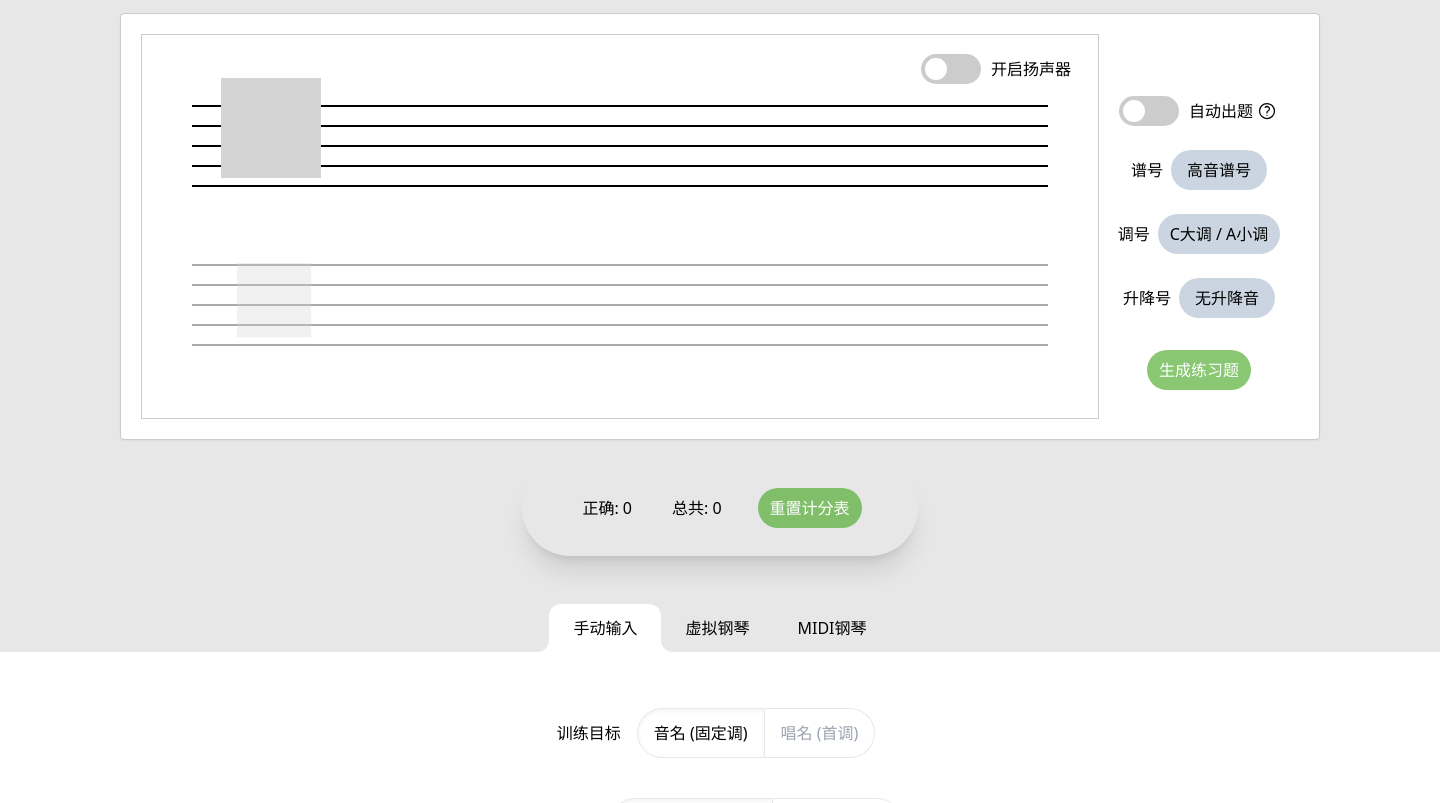
it: answer submission › submitting a wrong answer shows the wrong feedback message
Click the button "生成练习题".
click(1199, 370)  # box [1147,350,1251,390]
(page scrolled)
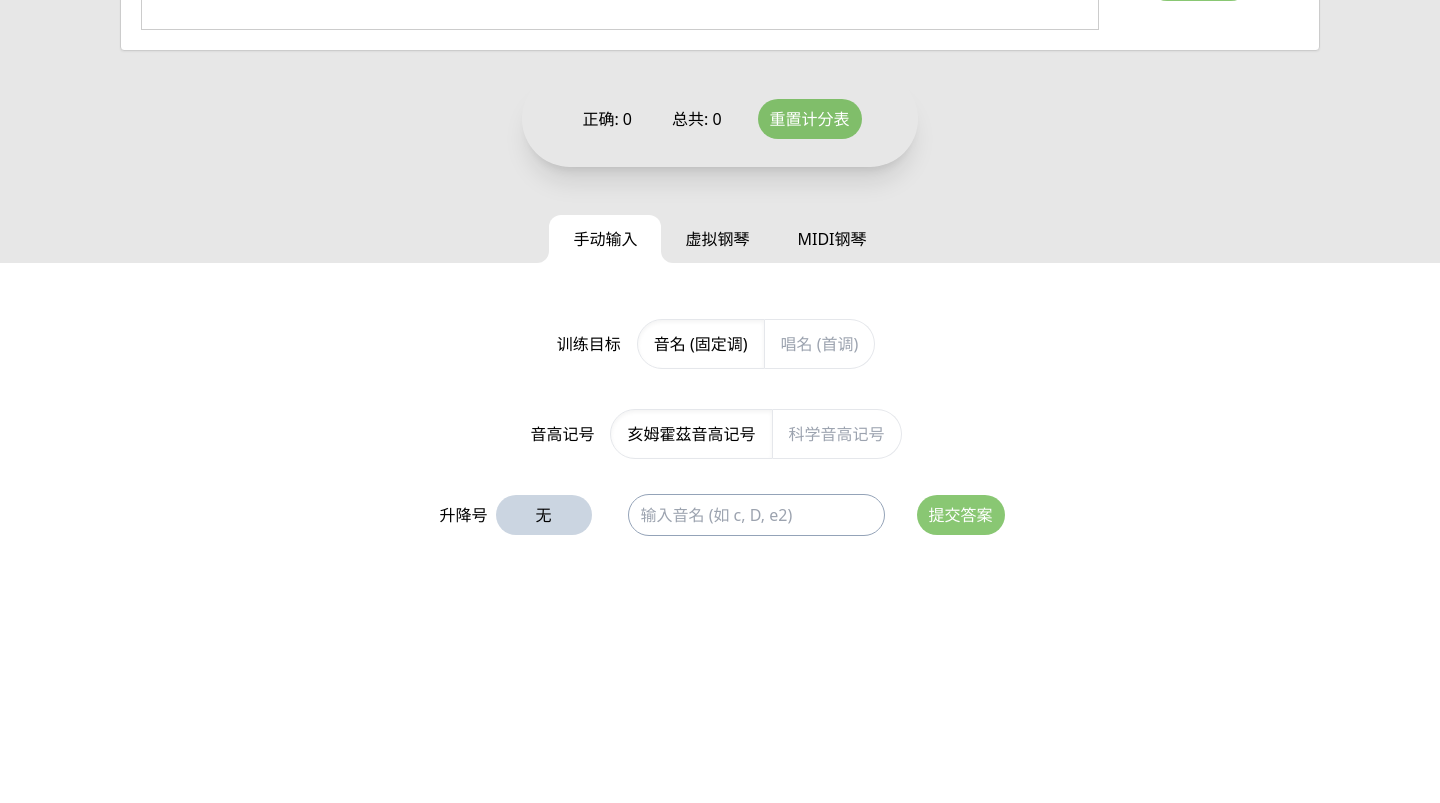
Type "d" into the field with id "noteInput".
click(756, 515); type("d")  # box [628,494,884,536]
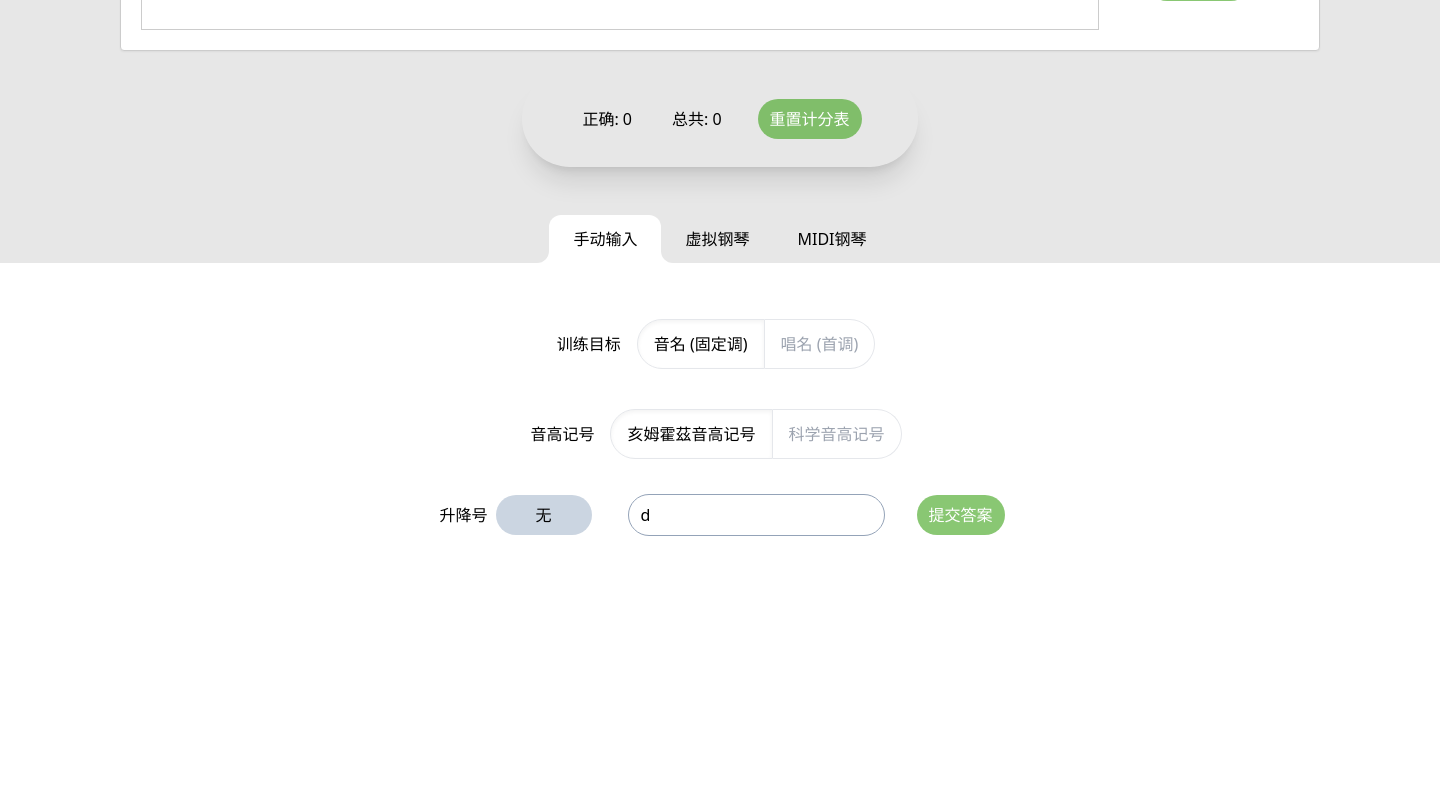
Click the button "提交答案".
click(960, 515)  # box [916,495,1004,535]
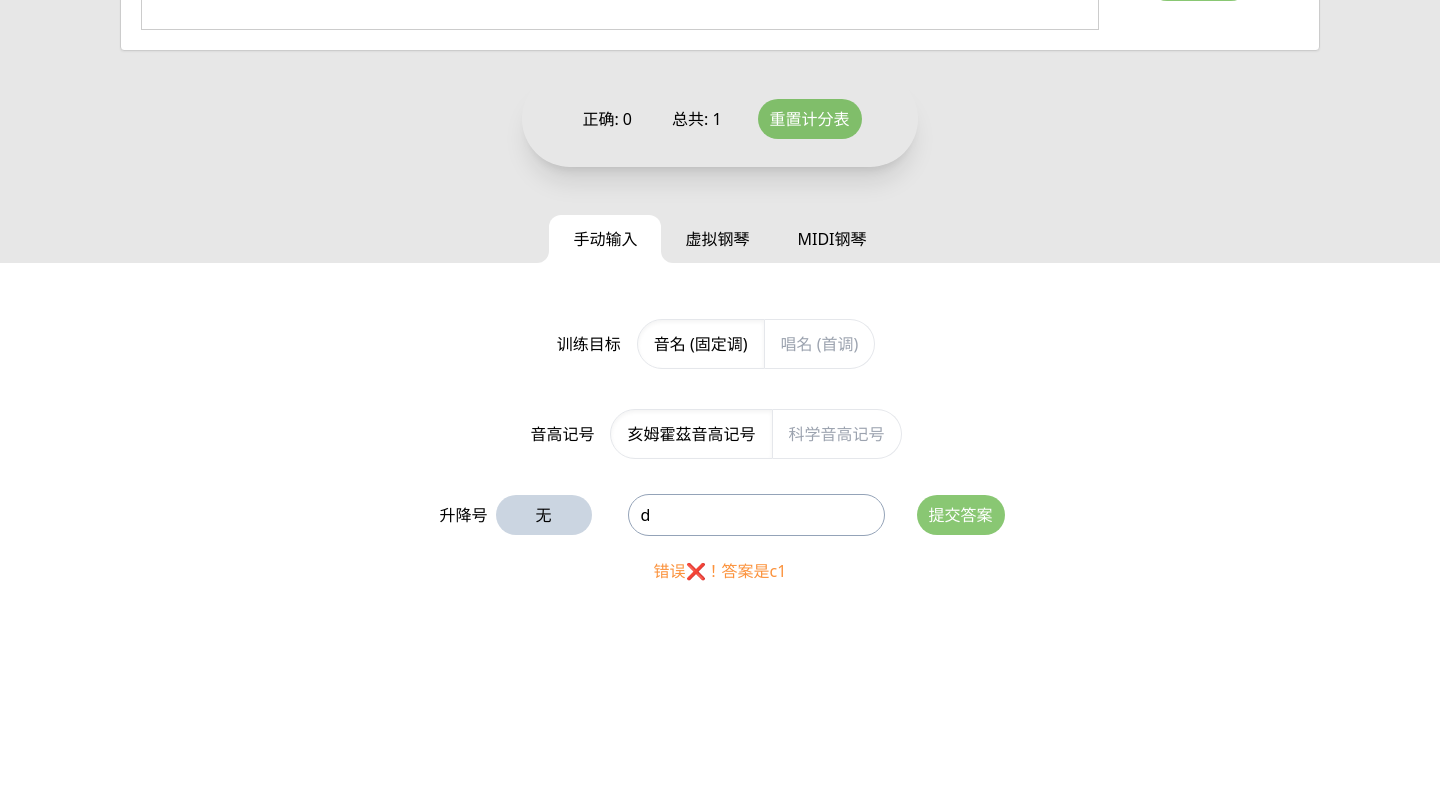
expect the text "错误❌" is shown: met, box [654,560,786,582]
